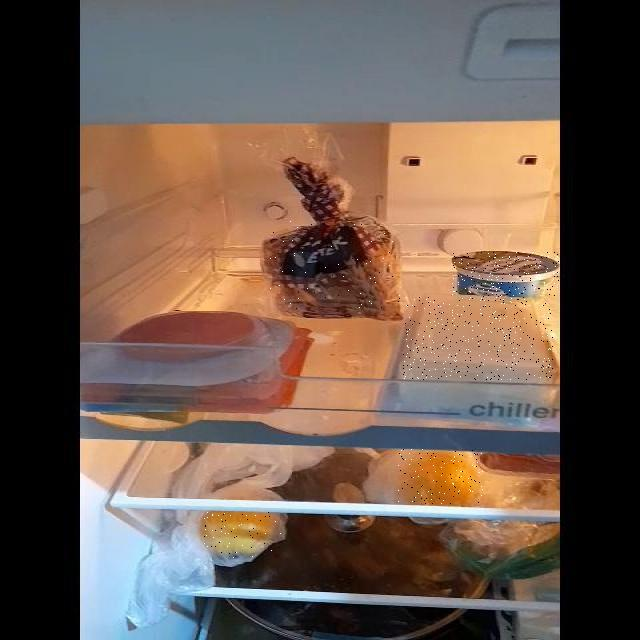bread: (270, 221, 400, 316)
cheese: (403, 297, 553, 380)
lemon: (398, 449, 484, 504), (204, 512, 282, 558)
yoghurt: (452, 252, 559, 299)
